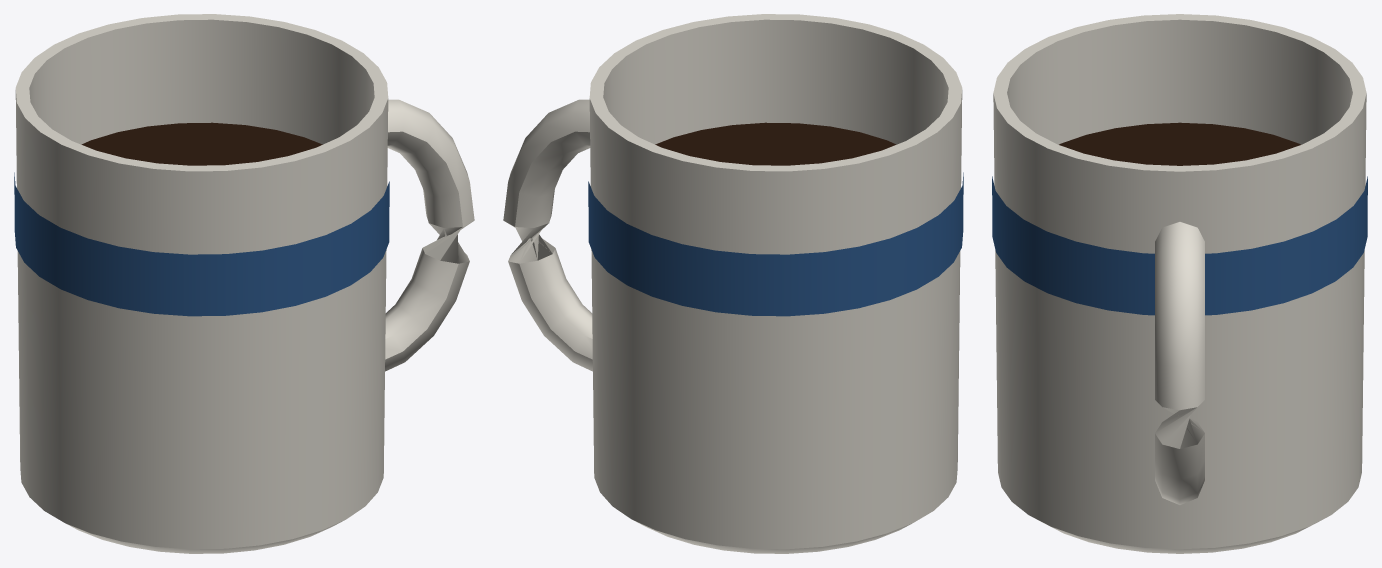
The model's file is coffee_mug.glb.
The picture shows the model from 3 angles, left to right: view 1: azimuth 30°, elevation 25°; view 2: azimuth 150°, elevation 25°; view 3: azimuth 270°, elevation 25°; orthographic projection.
Parts seen in each view (by area): view 1: coffee_mug; view 2: coffee_mug; view 3: coffee_mug.
Part boxes in pixels (x1,y1,x2,y2): coffee_mug: (14, 14, 474, 553); coffee_mug: (503, 14, 963, 553); coffee_mug: (992, 14, 1367, 553).
Bounding box in the file's own units: 0.1156 × 0.1 × 0.0869.
